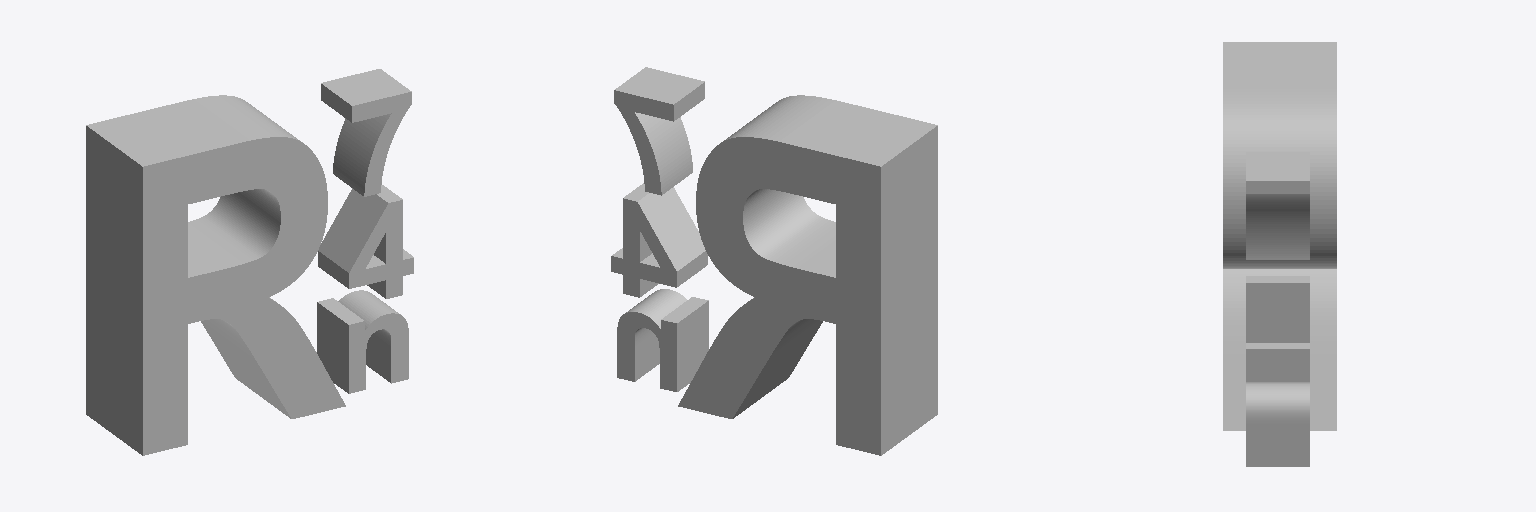
Rendered from favicon_old.obj.
3 renders of one model, left to right at view 1: azimuth 30°, elevation 25°; view 2: azimuth 150°, elevation 25°; view 3: azimuth 270°, elevation 25°, orthographic.
Visible parts, largest first — view 1: R_Text, R.002_Text.002, R.003_Text.003, 7_Text.001; view 2: R_Text, R.002_Text.002, R.003_Text.003, 7_Text.001; view 3: R_Text, 7_Text.001, R.002_Text.002, R.003_Text.003.
Part boxes in pixels (x1,y1,x2,y2): R_Text: (86, 95, 345, 455); R.002_Text.002: (318, 185, 413, 298); R.003_Text.003: (317, 290, 408, 393); 7_Text.001: (321, 69, 411, 196); R_Text: (678, 95, 937, 455); R.002_Text.002: (611, 183, 707, 297); R.003_Text.003: (617, 289, 708, 391); 7_Text.001: (614, 67, 704, 195); R_Text: (1223, 42, 1336, 430); 7_Text.001: (1246, 152, 1309, 259); R.002_Text.002: (1246, 276, 1309, 377); R.003_Text.003: (1246, 378, 1309, 466).
Size of the model in its own units: 0.5185 by 0.5057 by 0.18.